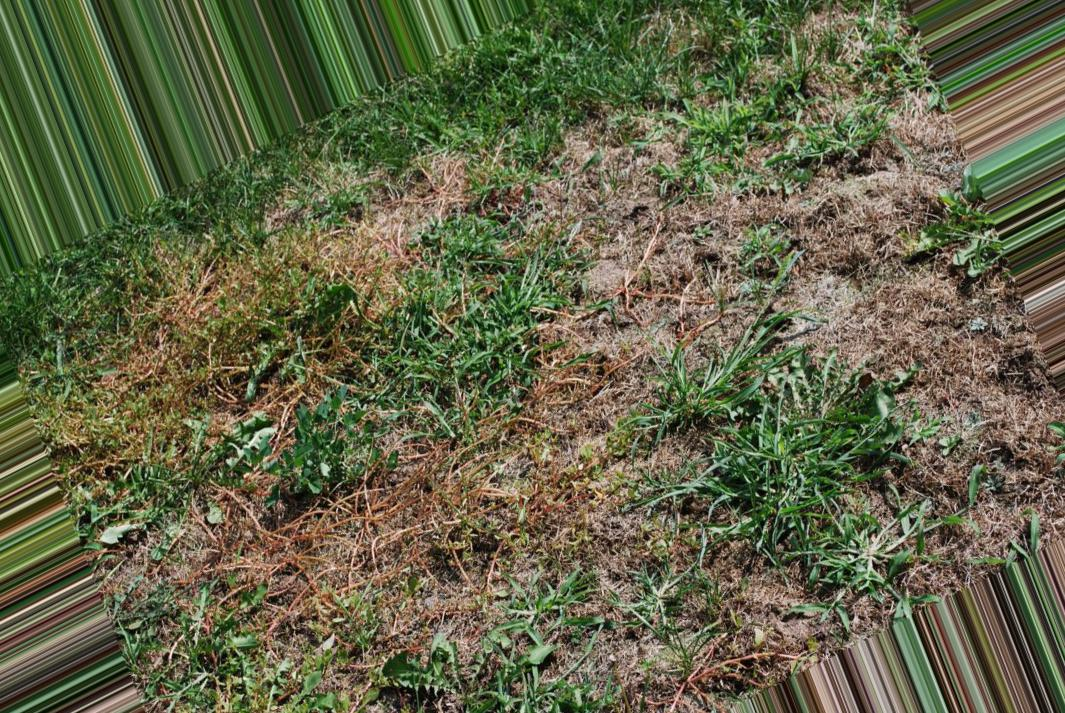patch: (341, 416, 576, 574), (551, 115, 779, 244), (844, 265, 1029, 416), (649, 518, 801, 652), (137, 446, 247, 583), (284, 200, 460, 275), (589, 302, 727, 390), (521, 583, 639, 678), (751, 314, 856, 364)
